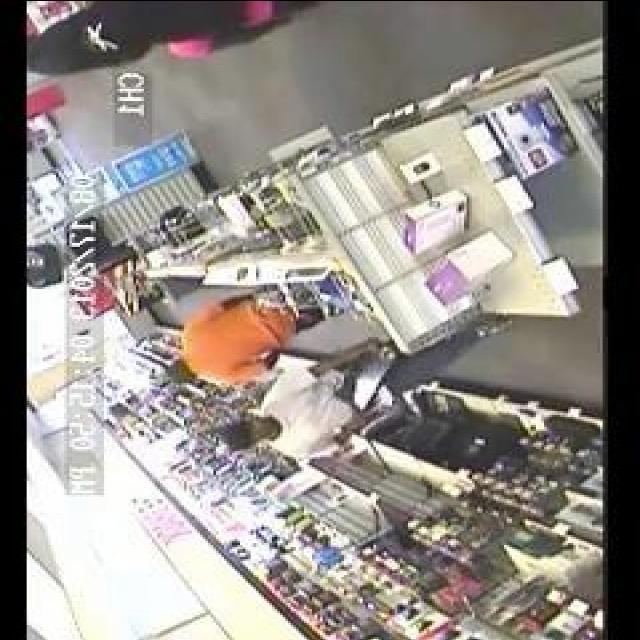Shoplifting: (101, 258, 523, 488)
